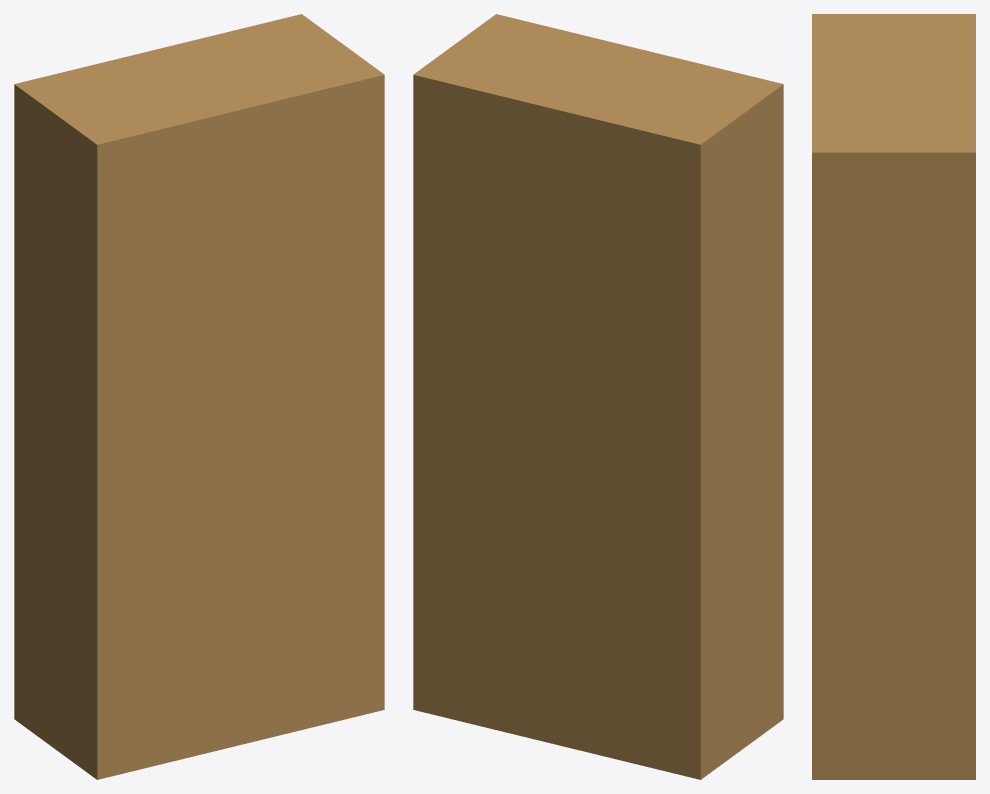
3 views of the same model, side by side, from view 1: azimuth 30°, elevation 25°; view 2: azimuth 150°, elevation 25°; view 3: azimuth 270°, elevation 25° (orthographic).
Visible parts, largest first — view 1: RUN-087-S00-STUD-00-p2; view 2: RUN-087-S00-STUD-00-p2; view 3: RUN-087-S00-STUD-00-p2.
Boxes of the visible parts, x1,y1,x2,y2 form: RUN-087-S00-STUD-00-p2: (14,14,384,779); RUN-087-S00-STUD-00-p2: (413,14,783,779); RUN-087-S00-STUD-00-p2: (812,14,975,779).
Size of the model in its own units: 0.09 by 0.19 by 0.045.
